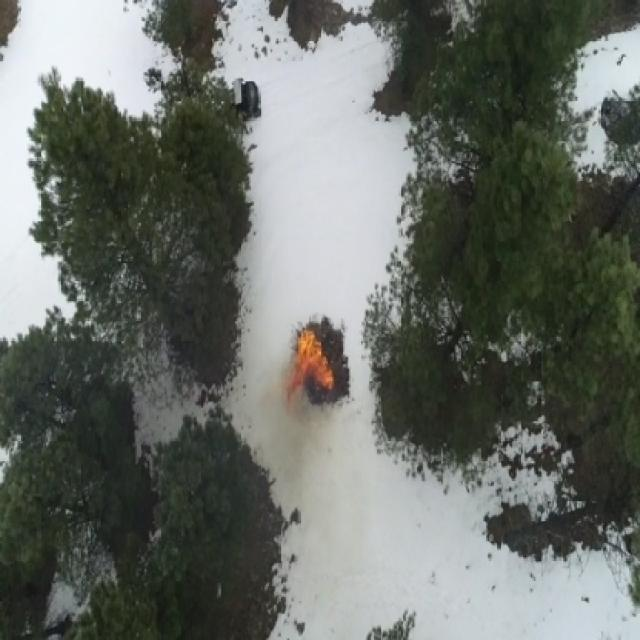Fire: (283, 324, 335, 410)
